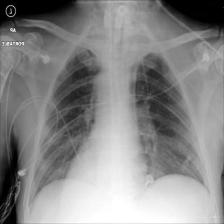normal: (24, 34, 216, 213)
